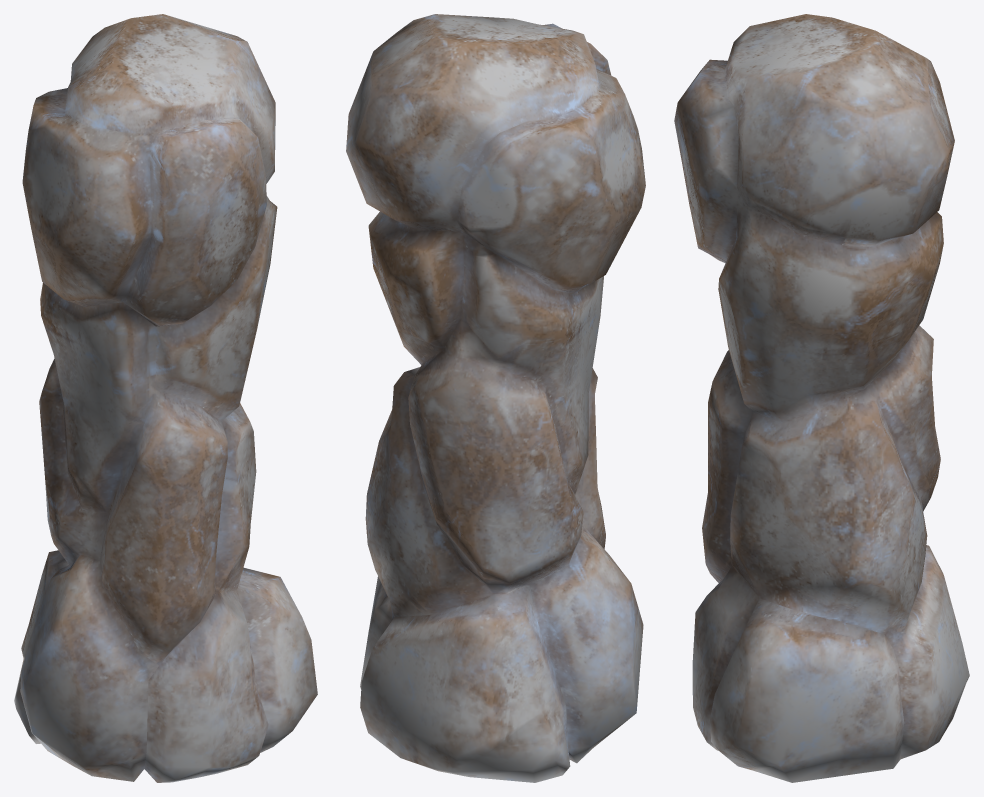
The model's file is sb_obj_nature007_Rock02e.fbx.
The picture shows the model from 3 angles, left to right: view 1: azimuth 30°, elevation 25°; view 2: azimuth 150°, elevation 25°; view 3: azimuth 270°, elevation 25°; orthographic projection.
Visible parts, largest first — view 1: sb_obj_nature007_Rock02e; view 2: sb_obj_nature007_Rock02e; view 3: sb_obj_nature007_Rock02e.
Boxes of the visible parts, <box> form: sb_obj_nature007_Rock02e: <box>14,14,317,782</box>; sb_obj_nature007_Rock02e: <box>346,14,645,782</box>; sb_obj_nature007_Rock02e: <box>674,14,969,782</box>.
Size of the model in its own units: 1.34 by 3.45 by 1.31.
